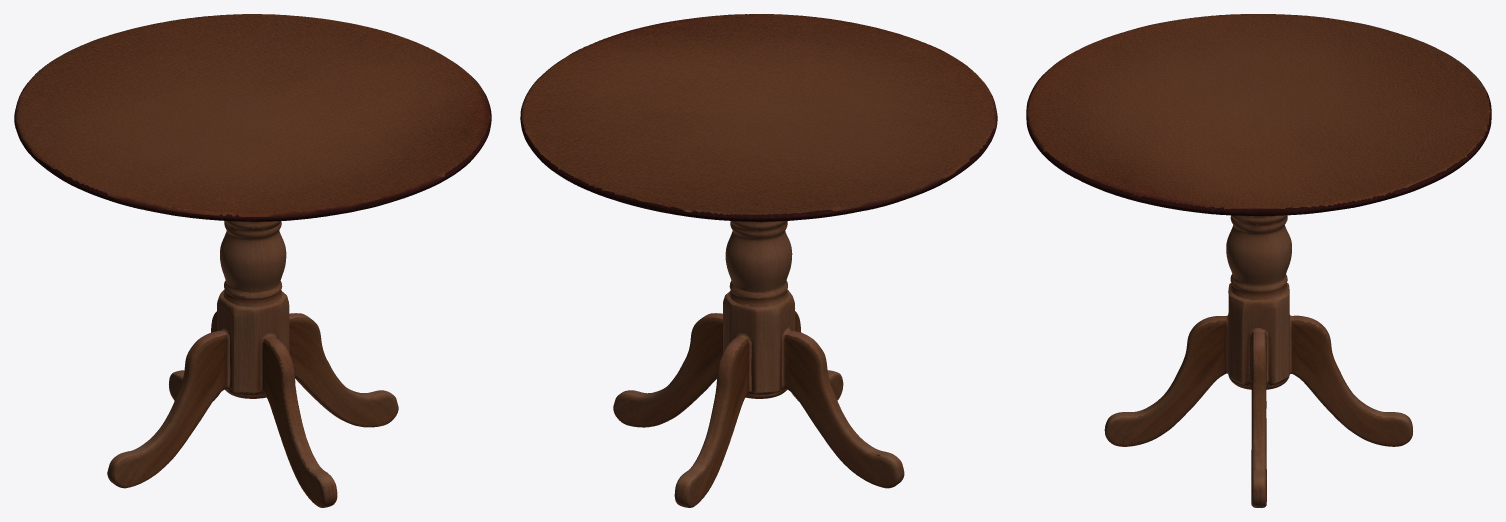
Rendered from table__table#5.glb.
The picture shows the model from 3 angles, left to right: view 1: azimuth 30°, elevation 25°; view 2: azimuth 150°, elevation 25°; view 3: azimuth 270°, elevation 25°; orthographic projection. The views are drawn at different scales.
Parts seen in each view (by area): view 1: tmp8_oip_zc.ply; view 2: tmp8_oip_zc.ply; view 3: tmp8_oip_zc.ply.
Part boxes in pixels (box(x1,y1,x2,y2)): tmp8_oip_zc.ply: box(14, 14, 491, 507); tmp8_oip_zc.ply: box(520, 14, 997, 507); tmp8_oip_zc.ply: box(1026, 14, 1491, 507).
Size of the model in its own units: 1.99 by 1.58 by 1.99.
Materials: 1 (1 with a texture image).
